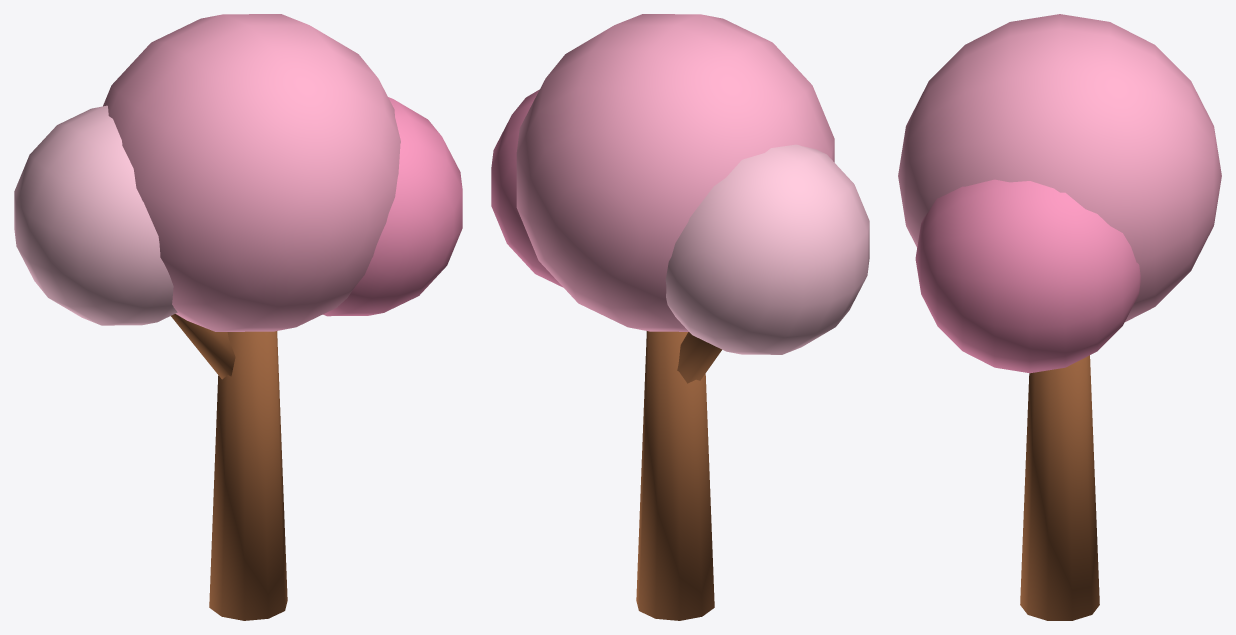
The model's file is Tree_Blossom.fbx.
3 views of the same model, side by side, from view 1: azimuth 30°, elevation 25°; view 2: azimuth 150°, elevation 25°; view 3: azimuth 270°, elevation 25° (orthographic).
Visible parts, largest first — view 1: Tree_Blossom; view 2: Tree_Blossom; view 3: Tree_Blossom.
Part boxes in pixels (x1,y1,x2,y2): Tree_Blossom: (14,14,462,620); Tree_Blossom: (491,14,869,620); Tree_Blossom: (898,14,1221,620).
Size of the model in its own units: 8.84 by 12.75 by 6.5.
1 material, 1 textured.
